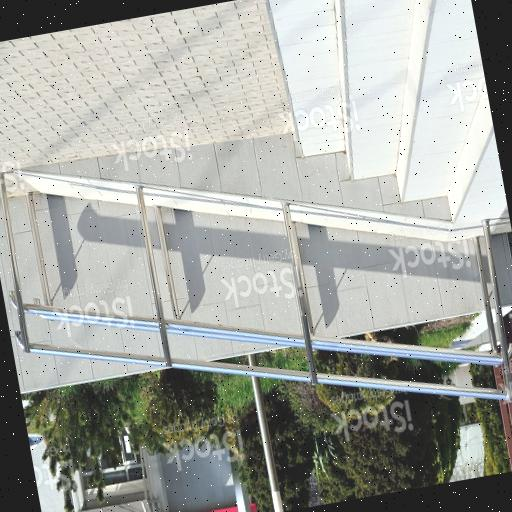ramp: (13, 96, 455, 314)
stairs: (266, 0, 503, 221)
